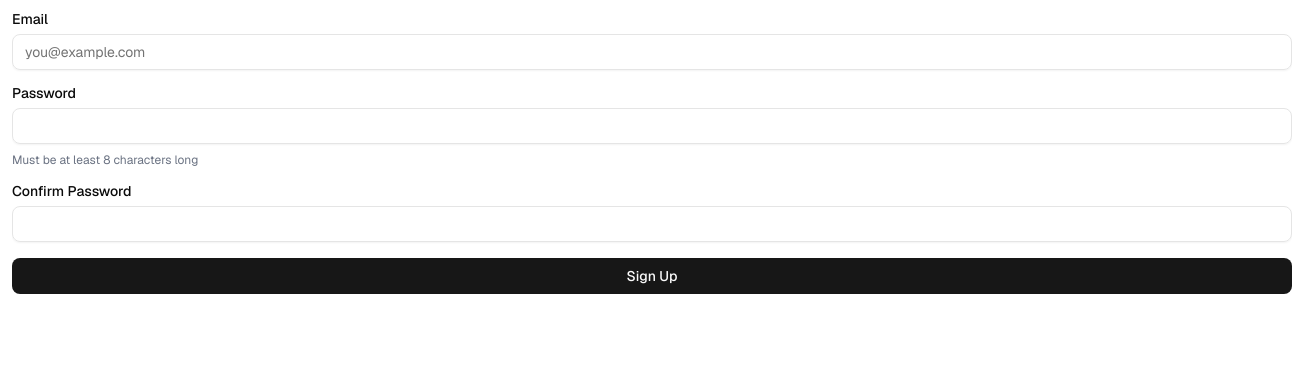
Test: shows server error message on failed sign-up
The width and height of the screenshot is (1304, 365).
In the field labelled "Email": (652, 52) [12, 34, 1292, 70], type "dup@example.com"
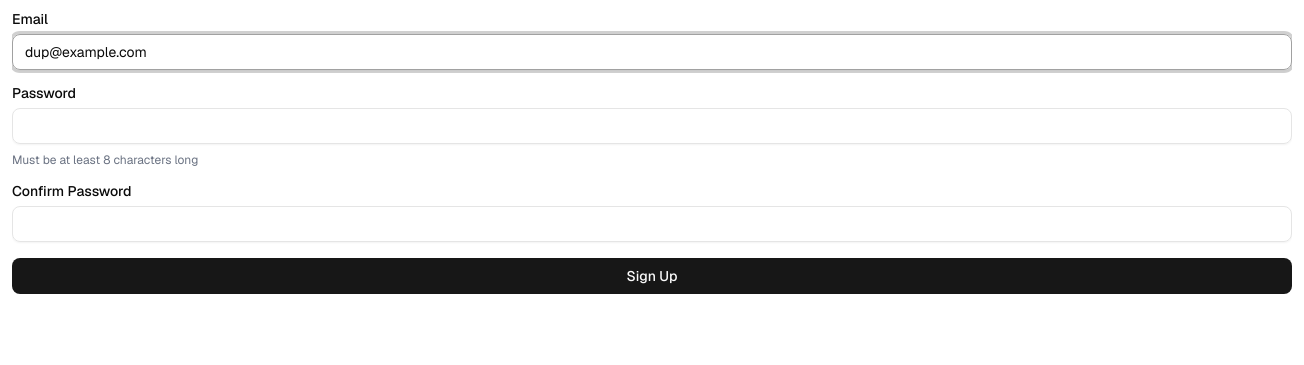
In the password field labelled "Password": (652, 126) [12, 108, 1292, 144], type "pass12345"
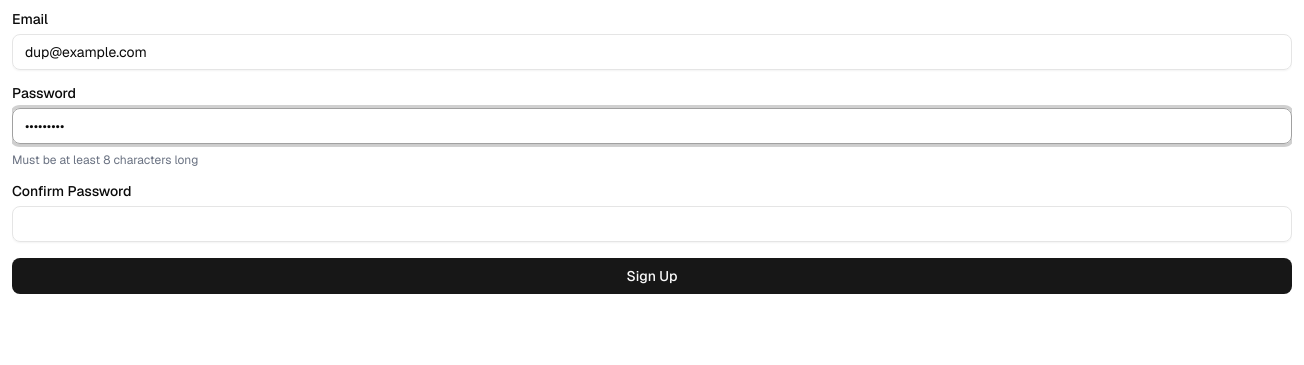
In the password field labelled "Confirm Password": (652, 224) [12, 206, 1292, 242], type "pass12345"
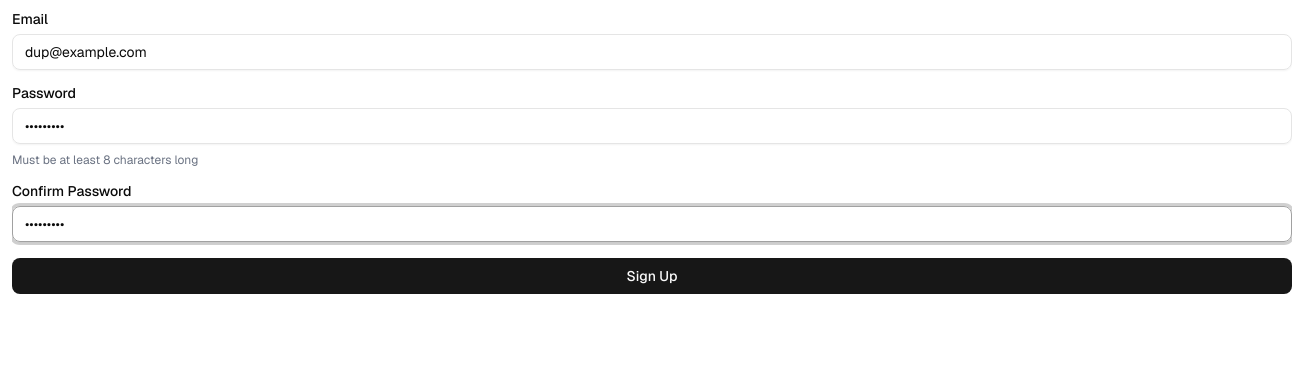
Submit the form
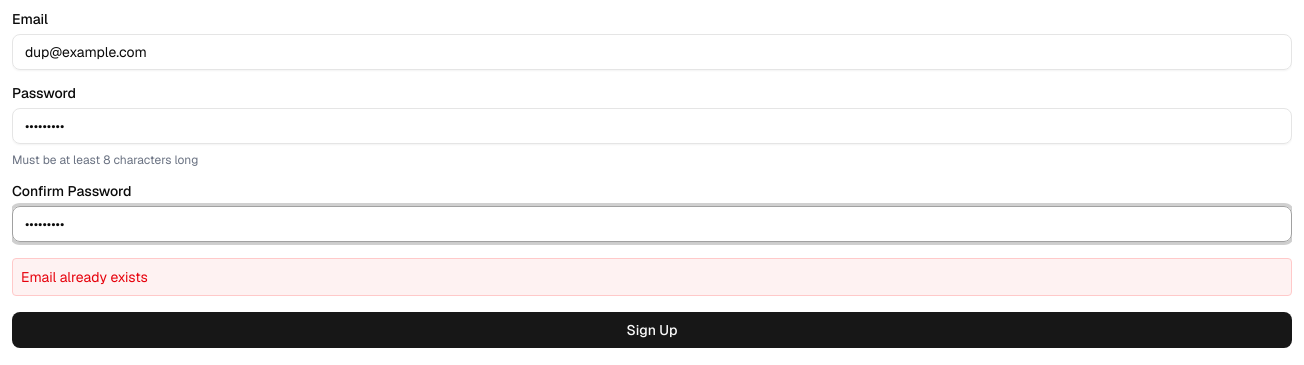
Expected: the text "Email already exists" is shown, [12, 258, 1292, 296]
